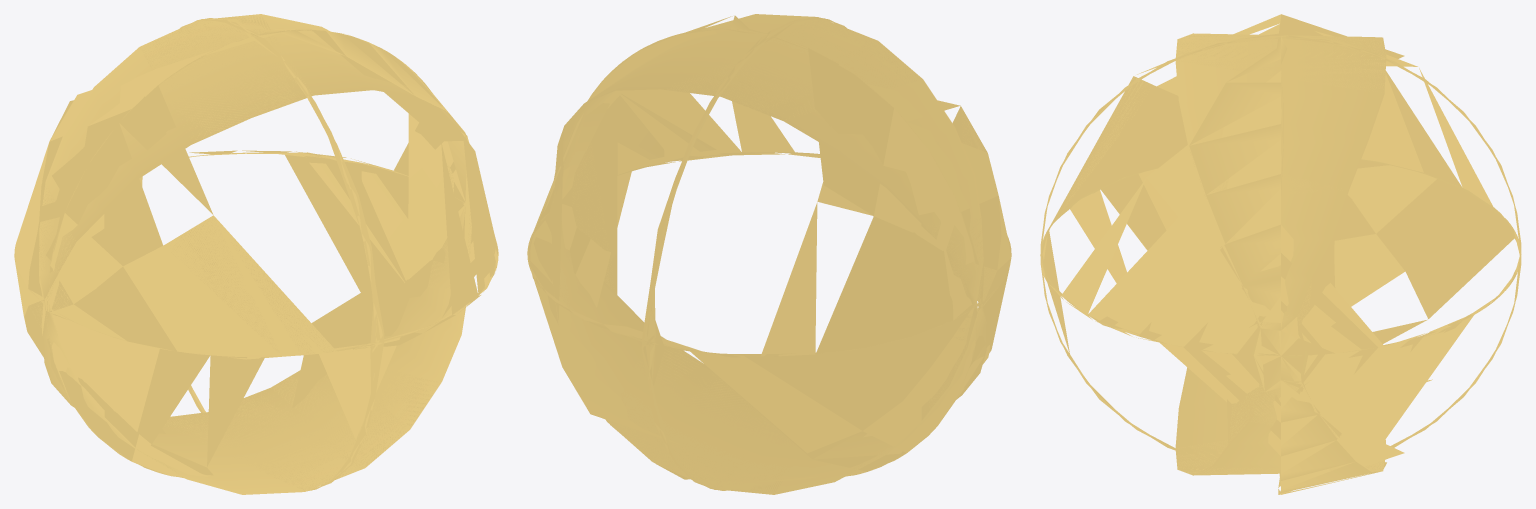
The model's file is ti_platform.glb.
The picture shows the model from 3 angles, left to right: view 1: azimuth 30°, elevation 25°; view 2: azimuth 150°, elevation 25°; view 3: azimuth 270°, elevation 25°; orthographic projection.
Parts seen in each view (by area): view 1: ti_platform; view 2: ti_platform; view 3: ti_platform.
Part boxes in pixels (bbox=[...]): ti_platform: bbox=[14, 14, 498, 494]; ti_platform: bbox=[527, 14, 1011, 494]; ti_platform: bbox=[1040, 14, 1521, 494].
Bounding box in the file's own units: 2 × 2 × 2.
